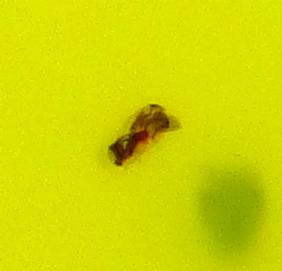Hemiptera: (100, 100, 182, 171)
